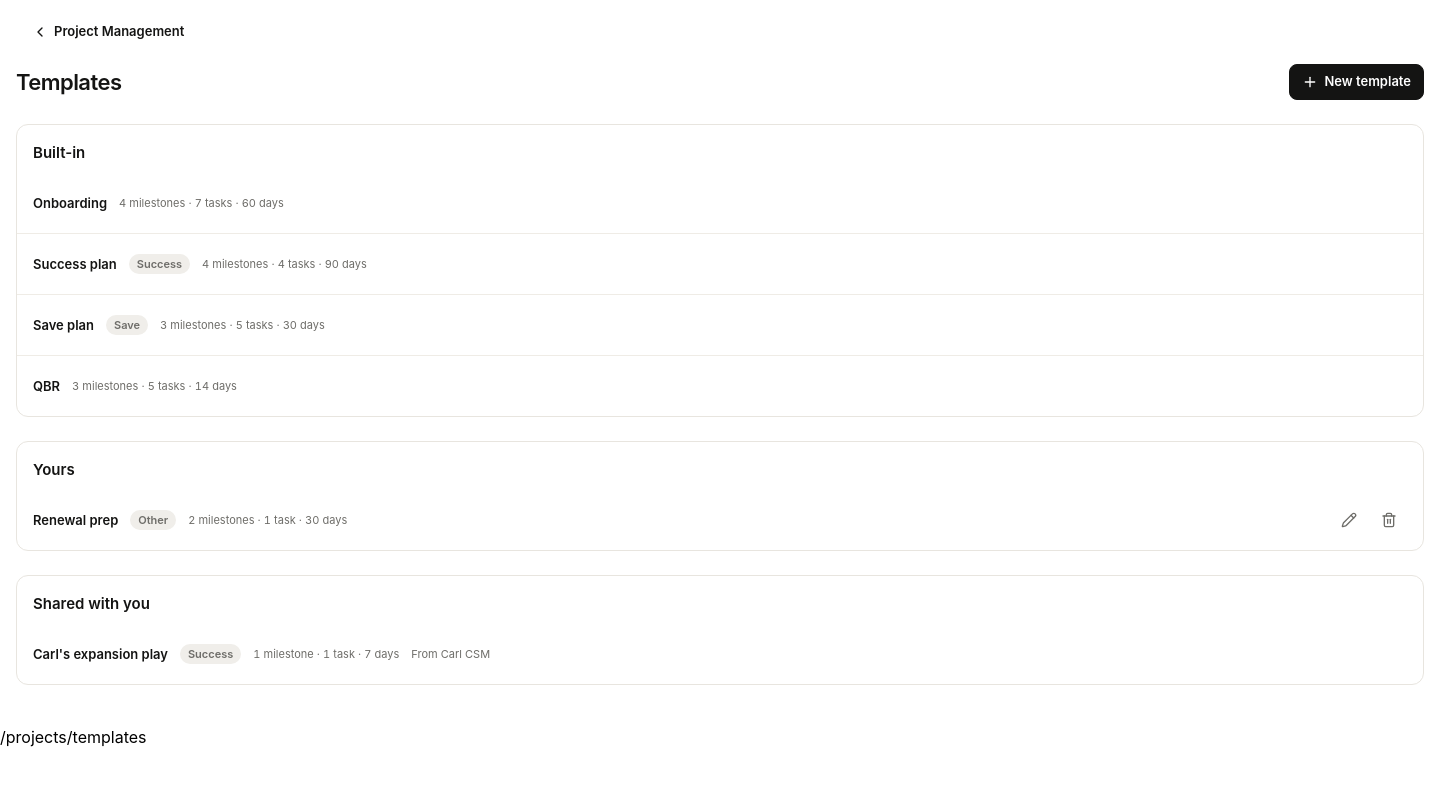
Test: templates (spec §2.4) › deletes your own template after asking
The width and height of the screenshot is (1440, 810).
Click the button named "Delete Renewal prep" at (1389, 520), box [1371,502,1407,538]
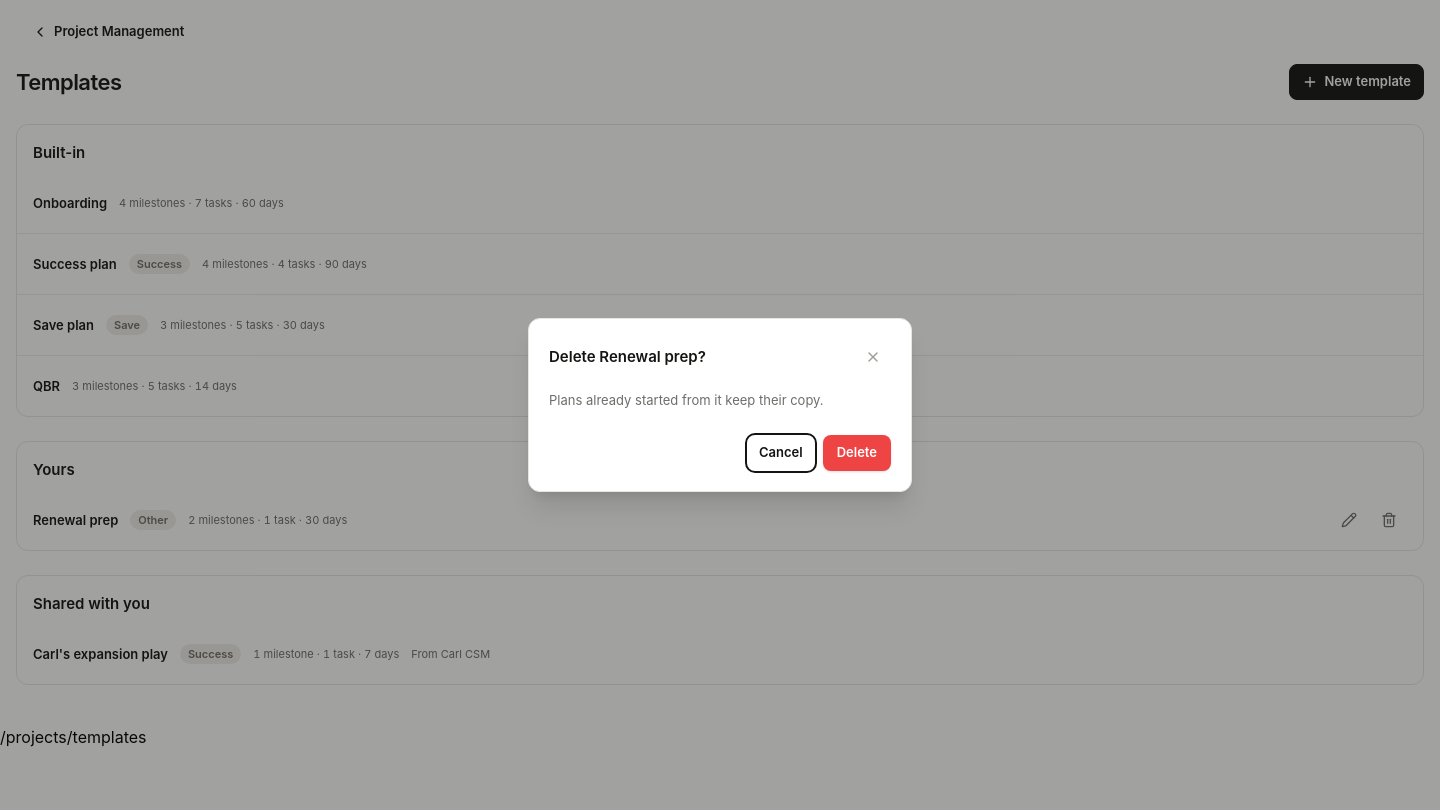
Click the button "Delete" at (857, 453), box [823,435,891,471]
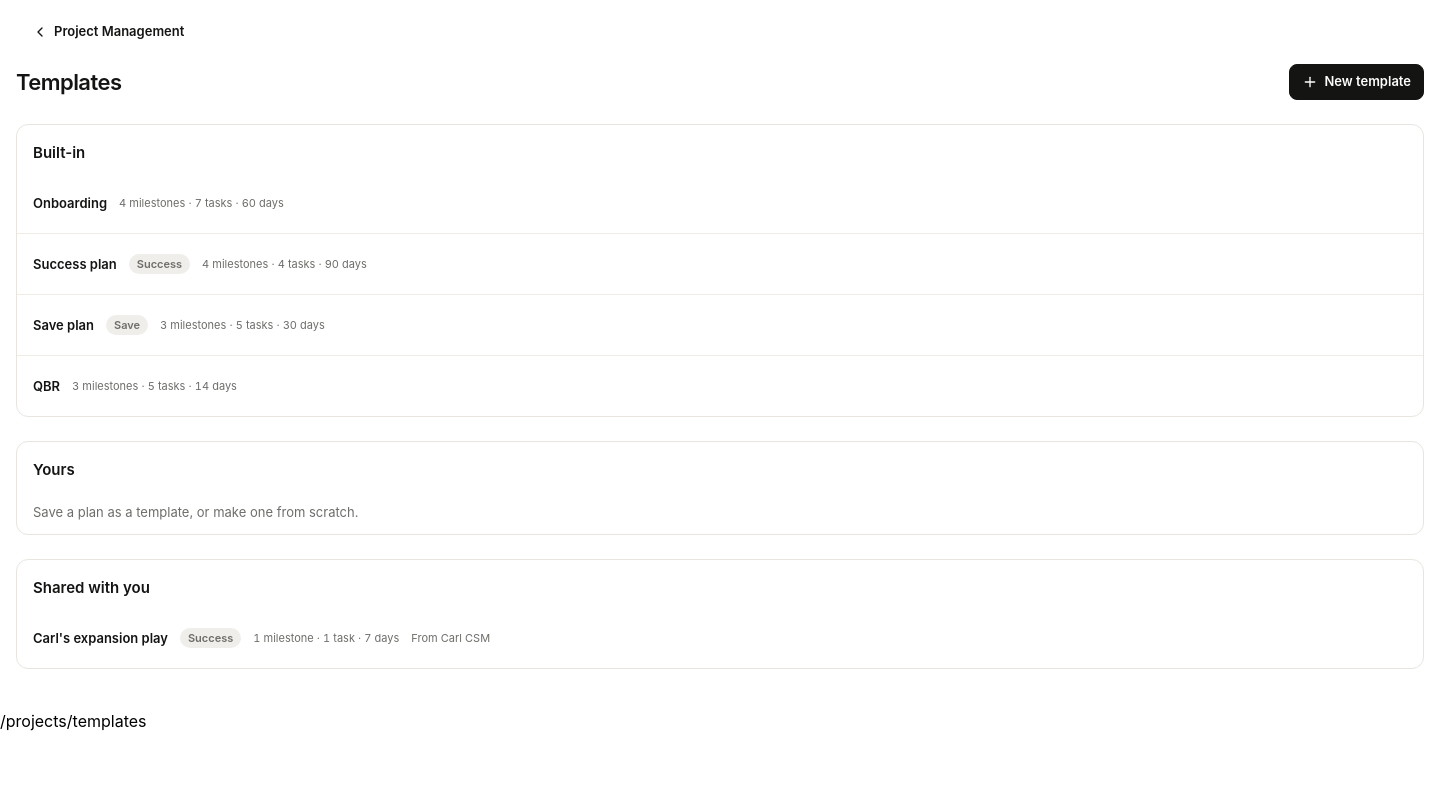
Check: the text "Save a plan as a template, or make one from scratch." is shown, box [33,504,358,520]
